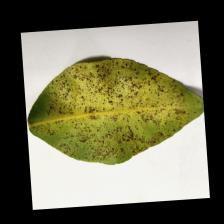canker: (59, 72, 163, 142)
